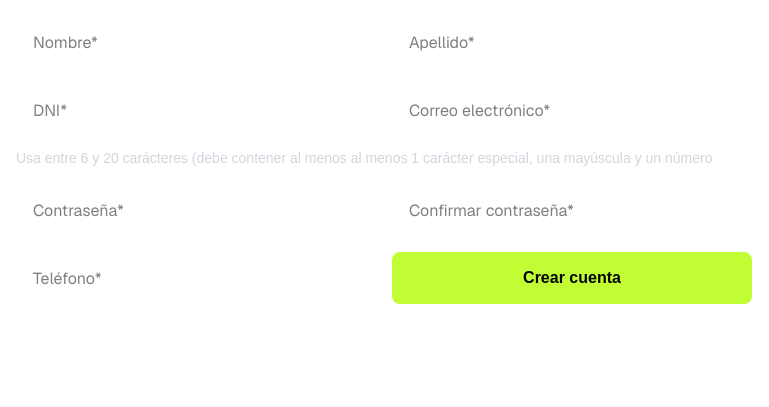
Test case: RegisterPage › shows mismatch error when passwords do not match
In the password field with placeholder "Contraseña*": (196, 210) x1=16 y1=184 x2=376 y2=236, type "Abcdef1!"
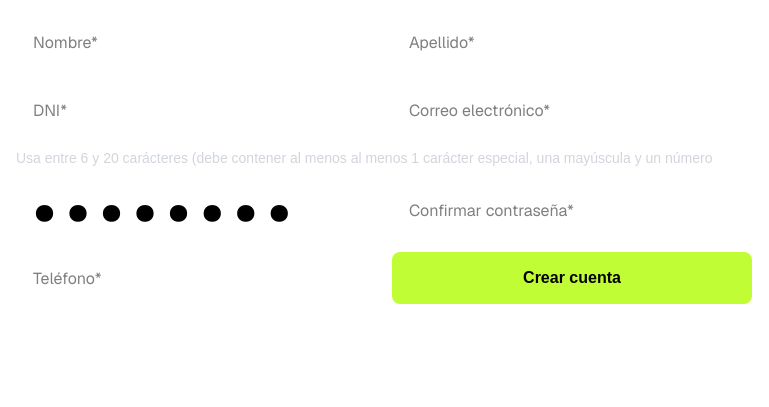
In the password field with placeholder "Confirmar contraseña*": (572, 210) x1=392 y1=184 x2=752 y2=236, type "Different1!"
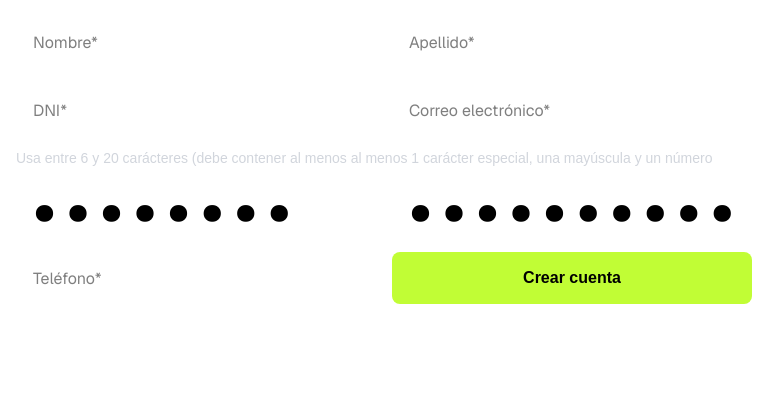
Click the button "Crear cuenta": (572, 278) x1=392 y1=252 x2=752 y2=304
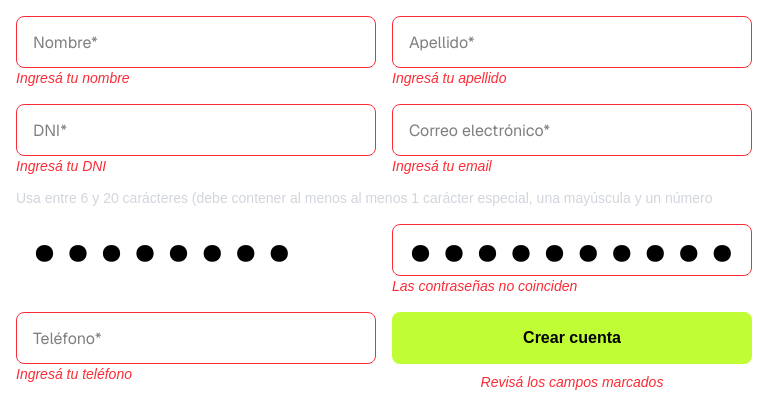
Expected: the text "Las contraseñas no coinciden" is shown, x1=392 y1=278 x2=577 y2=294
